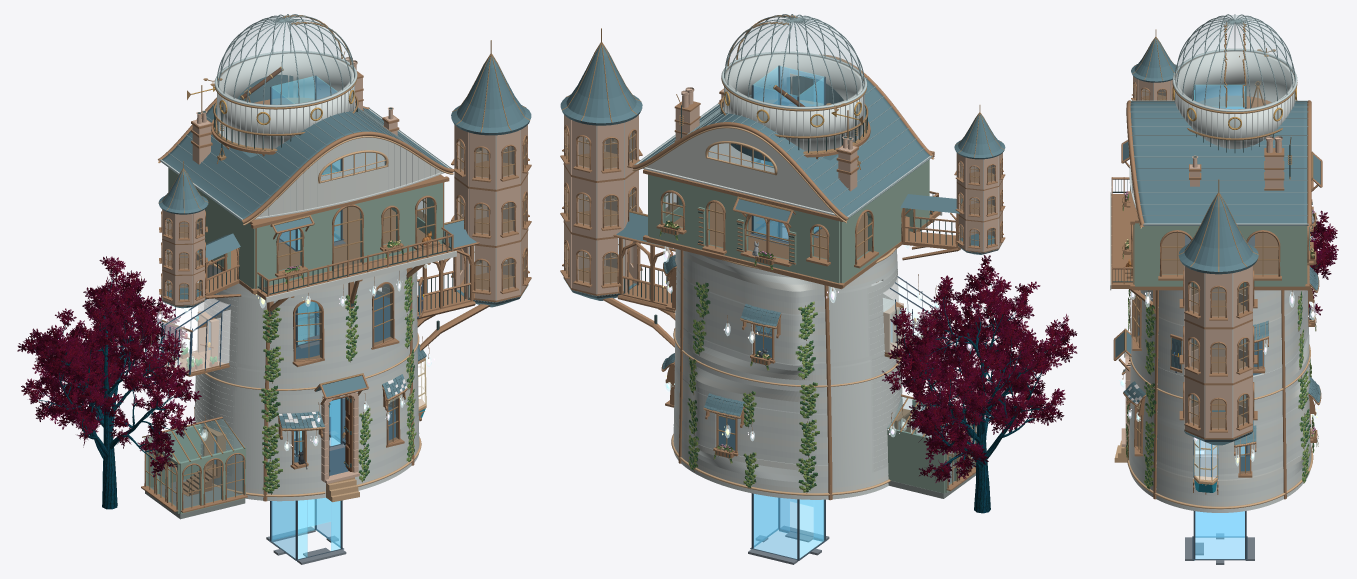
File: mansion-v09-DvKIPszq.glb
3 renders of one model, left to right at view 1: azimuth 30°, elevation 25°; view 2: azimuth 150°, elevation 25°; view 3: azimuth 270°, elevation 25°, orthographic. The views are drawn at different scales.
Visible parts, largest first — view 1: M09_HouseTree_Number5_Leaves, M01_Reuse_CURVE_BellGable_SlateRoof, M01_Reuse_ObsDome_Curved, M01_Reuse_CURVE_Observatory_CylindricalDrum, M01_Reuse_CURVE_ArchedGable_PaintedTimber, M09_HouseTree_Number5_Branches, M01_Tower_WitchHat, M01_UpperFloor_Slab, M05_Elevator_Shaft_Glass_North, M01_Conservatory_RoofGlass, M05_Elevator_Shaft_Glass_East, M05_Elevator_Shaft_Glass_West (+30 smaller); view 2: M09_HouseTree_Number5_Leaves, M01_Reuse_CURVE_BellGable_SlateRoof, M01_Reuse_ObsDome_Curved, M01_Reuse_CURVE_Observatory_CylindricalDrum, M01_Reuse_CURVE_ArchedGable_Rear, M09_HouseTree_Number5_Branches, M01_Tower_WitchHat, M05_Elevator_Shaft_Glass_North, M01_Conservatory_Back, M01_UpperFloor_Slab, M04_WestPassage, M05_Elevator_Shaft_Glass_West (+53 smaller); view 3: M01_Reuse_CURVE_BellGable_SlateRoof, M01_Reuse_CURVE_Observatory_CylindricalDrum, M01_Reuse_ObsDome_Curved, M01_Tower_WitchHat, M05_Elevator_Shaft_Glass_East, M01_UpperFloor_Slab, M05_Elevator_Shaft_Glass_West, M01_UpperFloor_Side_L.002, M01_GrandBalcony_Deck, M01_UpperFloor_Side_R.003, M09_HouseTree_Number5_Leaves, M04_WestTurret_M01_Tower_WitchHat (+60 smaller).
Part boxes in pixels (x1,y1,x2,y2): M09_HouseTree_Number5_Leaves: (17,256,201,477); M01_Reuse_CURVE_BellGable_SlateRoof: (161,74,447,220); M01_Reuse_ObsDome_Curved: (218,15,353,104); M01_Reuse_CURVE_Observatory_CylindricalDrum: (217,53,353,148); M01_Reuse_CURVE_ArchedGable_PaintedTimber: (257,136,441,217); M09_HouseTree_Number5_Branches: (33,270,184,509); M01_Tower_WitchHat: (451,56,531,135); M01_UpperFloor_Slab: (211,206,432,294); M05_Elevator_Shaft_Glass_North: (272,76,314,539); M01_Conservatory_RoofGlass: (167,419,245,463); M05_Elevator_Shaft_Glass_East: (316,76,339,547); M05_Elevator_Shaft_Glass_West: (271,87,295,558); M09_HouseTree_Number5_Leaves: (882,255,1077,482); M01_Reuse_CURVE_BellGable_SlateRoof: (638,76,930,219); M01_Reuse_ObsDome_Curved: (725,15,863,106); M01_Reuse_CURVE_Observatory_CylindricalDrum: (724,54,863,151); M01_Reuse_CURVE_ArchedGable_Rear: (646,126,833,212); M09_HouseTree_Number5_Branches: (901,283,1064,513); M01_Tower_WitchHat: (560,45,642,125); M05_Elevator_Shaft_Glass_North: (753,85,797,558); M01_Conservatory_Back: (887,427,945,493); M01_UpperFloor_Slab: (646,202,930,289); M04_WestPassage: (900,194,962,260); M05_Elevator_Shaft_Glass_West: (799,77,824,557); M01_Reuse_CURVE_BellGable_SlateRoof: (1130,102,1308,225); M01_Reuse_CURVE_Observatory_CylindricalDrum: (1175,51,1294,148); M01_Reuse_ObsDome_Curved: (1175,15,1294,108); M01_Tower_WitchHat: (1178,195,1258,274); M05_Elevator_Shaft_Glass_East: (1195,106,1244,558); M01_UpperFloor_Slab: (1133,232,1307,290); M05_Elevator_Shaft_Glass_West: (1195,84,1244,536); M01_UpperFloor_Side_L.002: (1134,223,1160,286); M01_GrandBalcony_Deck: (1111,194,1130,288); M01_UpperFloor_Side_R.003: (1279,226,1305,286); M09_HouseTree_Number5_Leaves: (1309,210,1338,315); M04_WestTurret_M01_Tower_WitchHat: (1131,38,1177,82).
Size of the model in its own units: 40.24 by 40.42 by 16.31.
75 materials, 2 textured.
